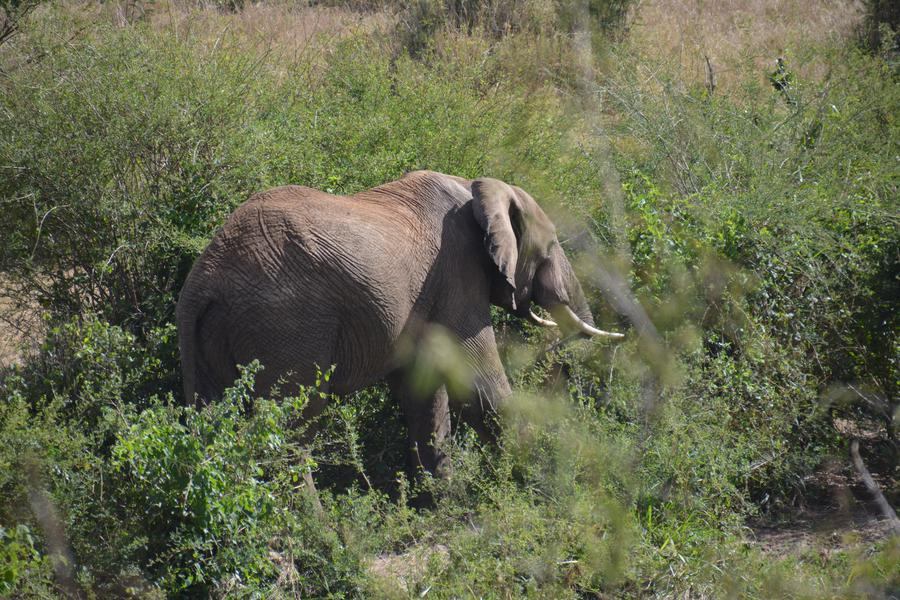elephant: (179, 174, 614, 432)
